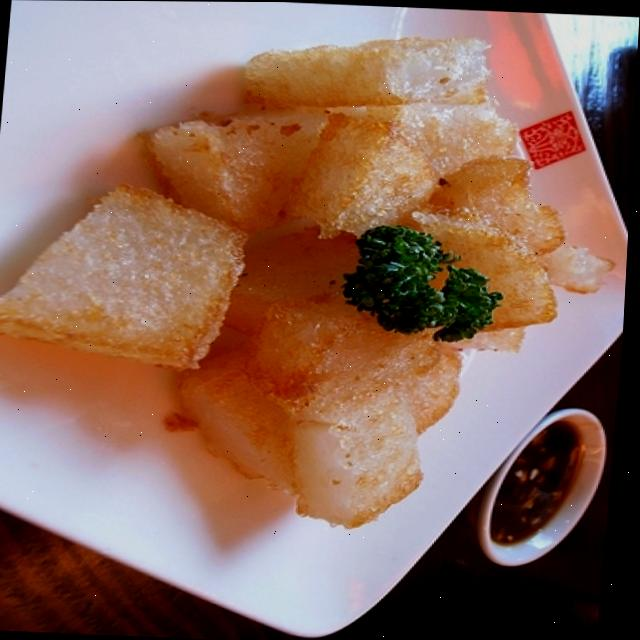蛋糕甜品: (10, 11, 616, 558)
